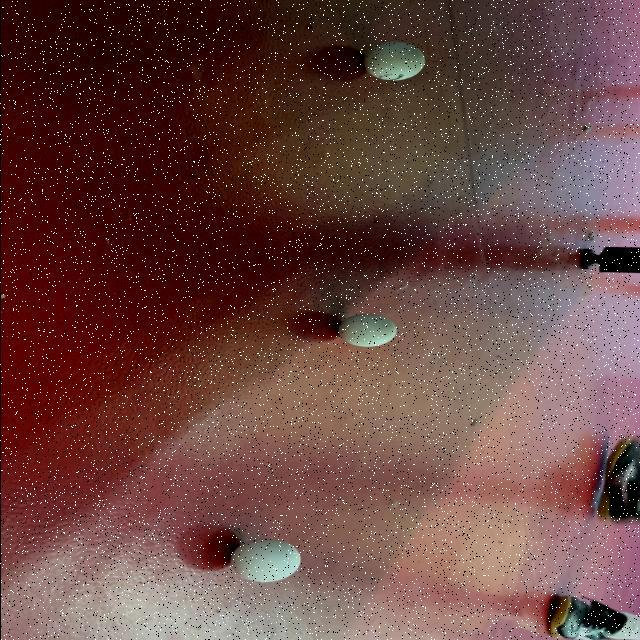ping-pong-ball: (228, 537, 302, 584), (360, 40, 428, 83), (333, 313, 399, 349)
